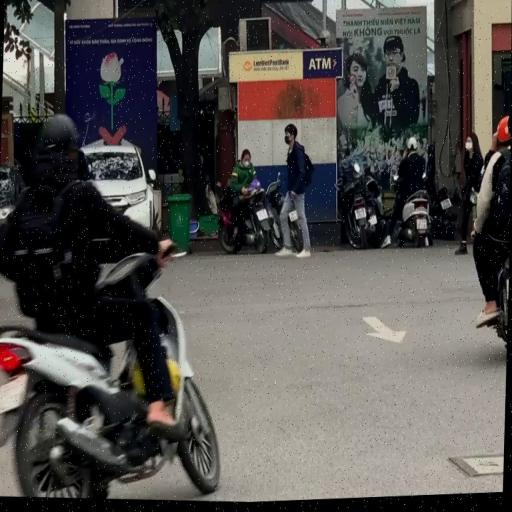bike: (0, 104, 232, 509), (469, 115, 511, 356), (387, 135, 438, 257)
numberplate: (0, 368, 33, 418), (354, 206, 368, 225), (414, 218, 428, 236), (288, 210, 301, 227), (255, 210, 269, 224)
with helmet: (36, 111, 82, 160), (406, 138, 420, 156)
